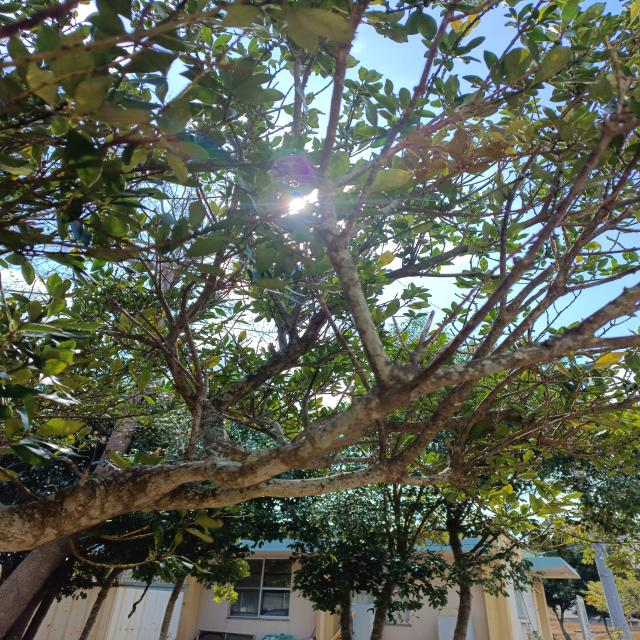Branch: (172, 366, 425, 486), (320, 0, 395, 383), (211, 266, 410, 410), (154, 457, 404, 512), (426, 326, 594, 393), (161, 320, 231, 448), (400, 467, 465, 484)
Twig: (429, 119, 621, 372), (396, 256, 561, 468), (179, 230, 290, 393), (307, 274, 387, 464), (463, 396, 640, 470), (451, 363, 538, 471), (409, 210, 551, 274), (115, 285, 198, 387), (467, 420, 621, 471), (137, 253, 175, 325), (300, 387, 365, 428), (582, 284, 640, 329), (495, 370, 570, 401), (412, 272, 601, 283), (541, 439, 629, 458), (251, 394, 285, 443), (408, 311, 435, 367), (597, 335, 640, 348)
